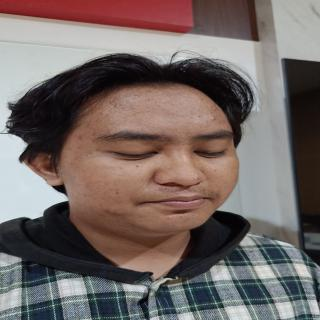Sedih: (57, 77, 234, 240)
